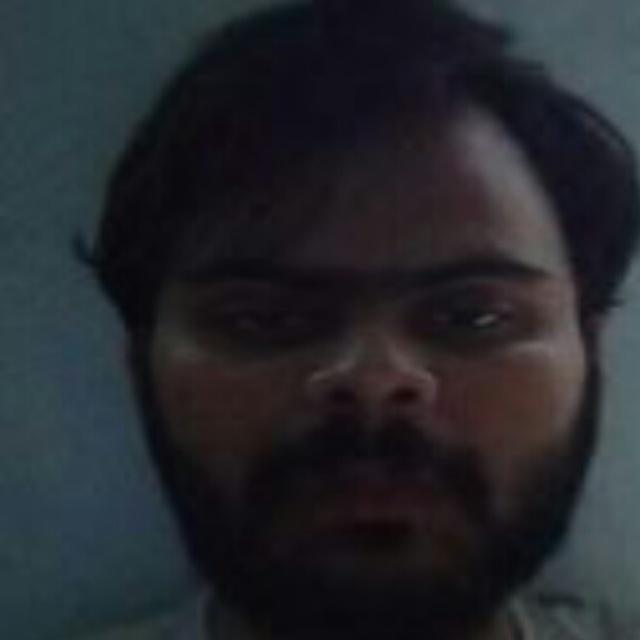Sad: (130, 85, 601, 606)
